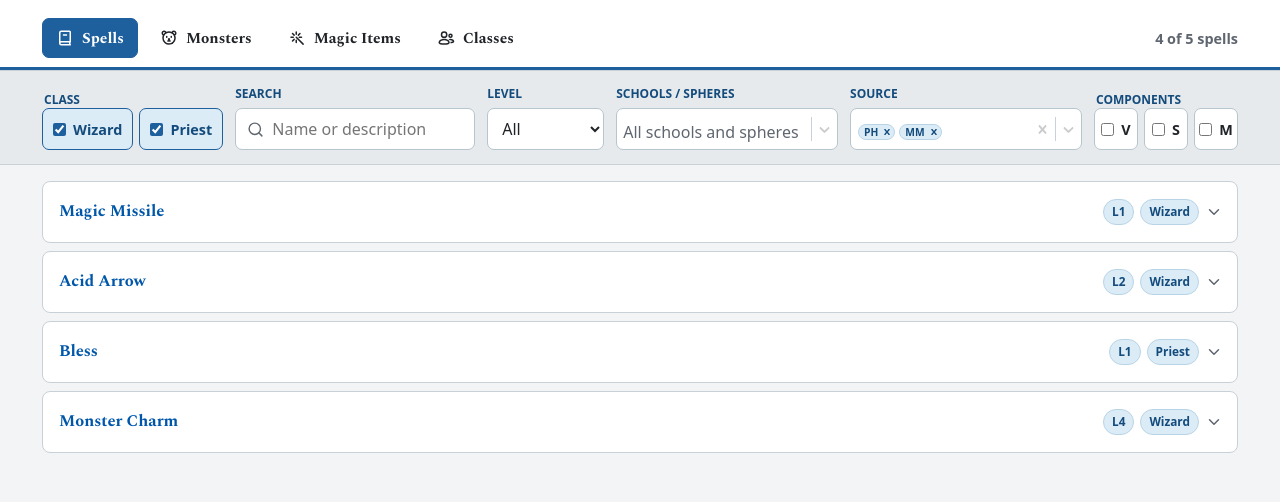
Test: App › searches spell descriptions and opens accordion details
The width and height of the screenshot is (1280, 502).
Expected: the text "Magic Missile" is shown, [59, 202, 164, 222]
Type "acid" into the field named "Search spells" at (368,129), box [272, 109, 463, 149]
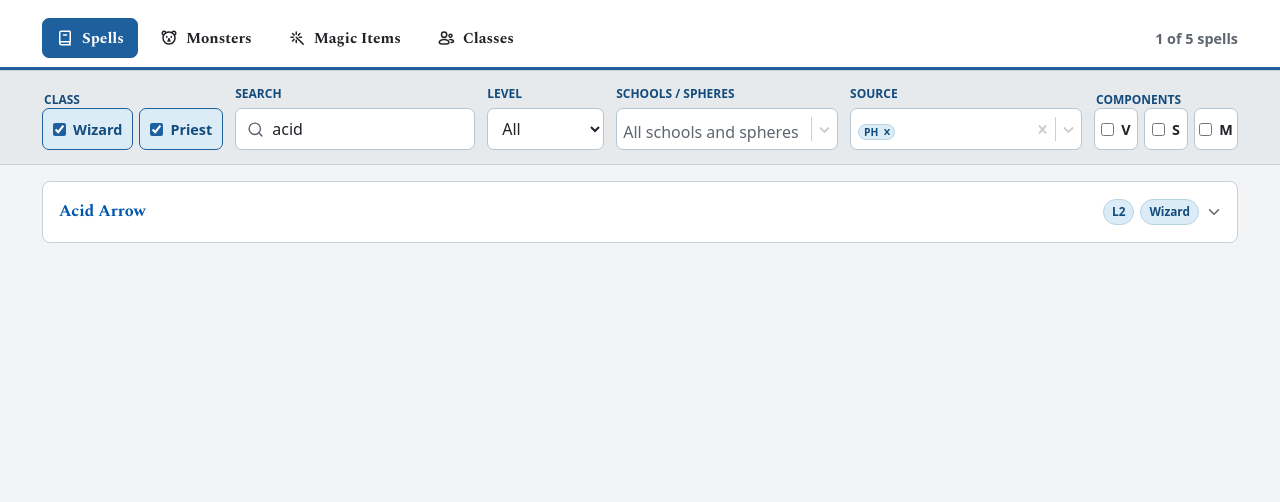
Expected: the text "VSM" is not shown
Now the button "Magic Missile" is gone
Click the text "Acid Arrow" at (102,212), box [59, 202, 146, 222]
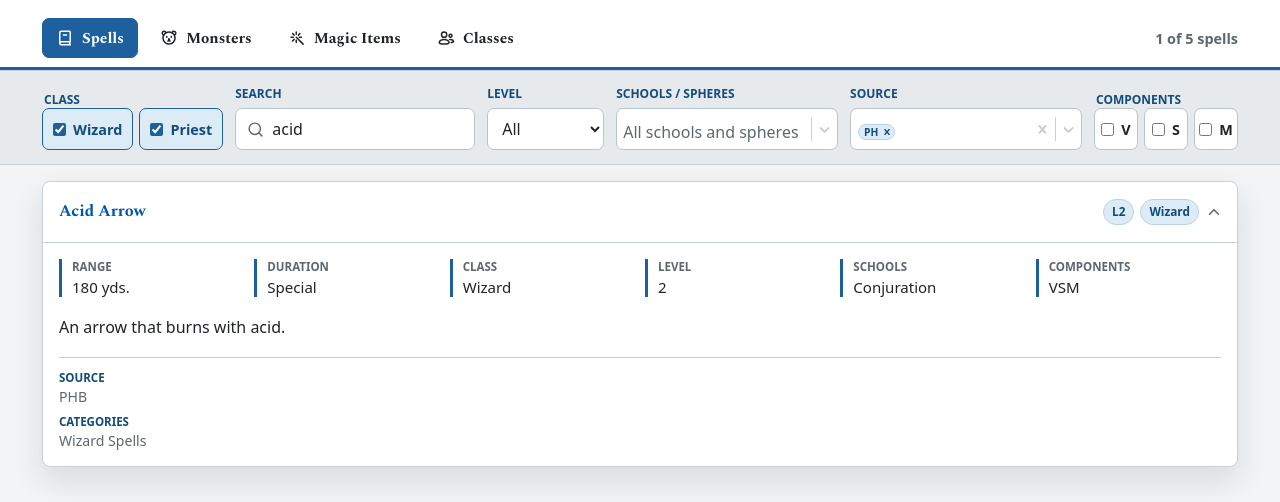
Now the text "An arrow that burns with acid." is shown, box [59, 316, 285, 338]
Now the text "Schools" is shown, box [853, 259, 907, 274]
Now the text "Conjuration" is shown, box [853, 277, 936, 297]
